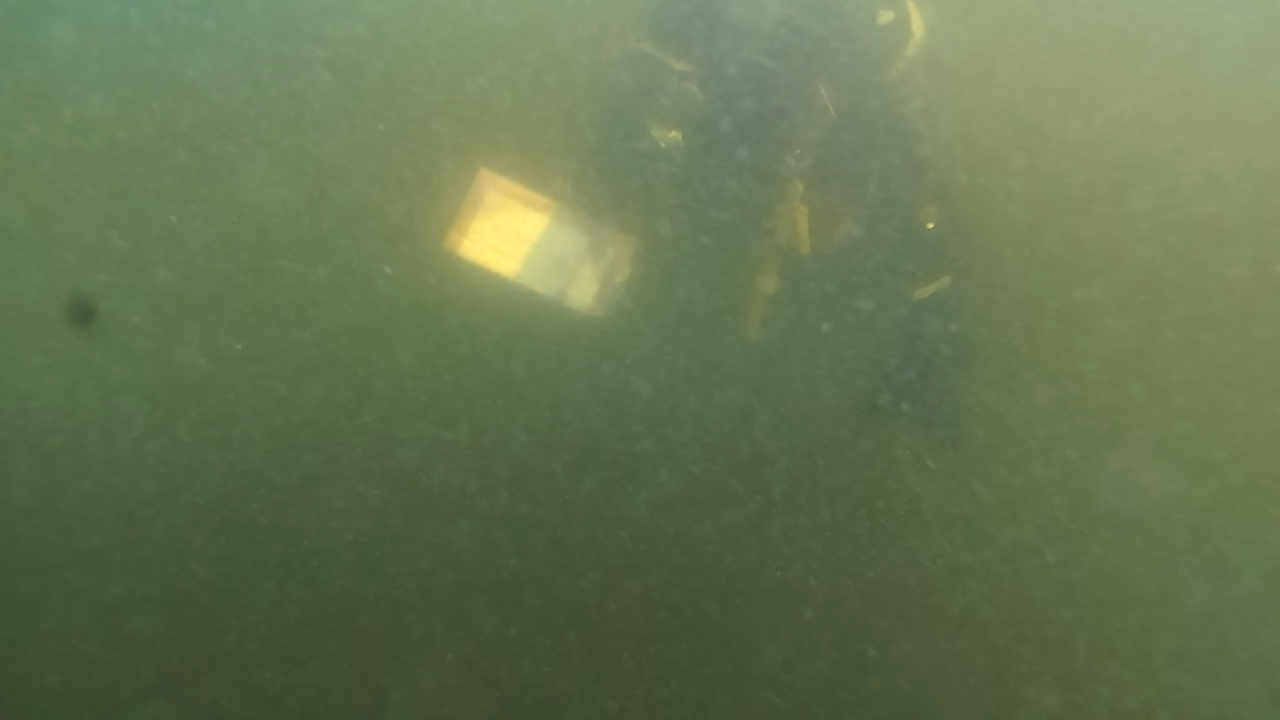Diver: (448, 6, 994, 442)
